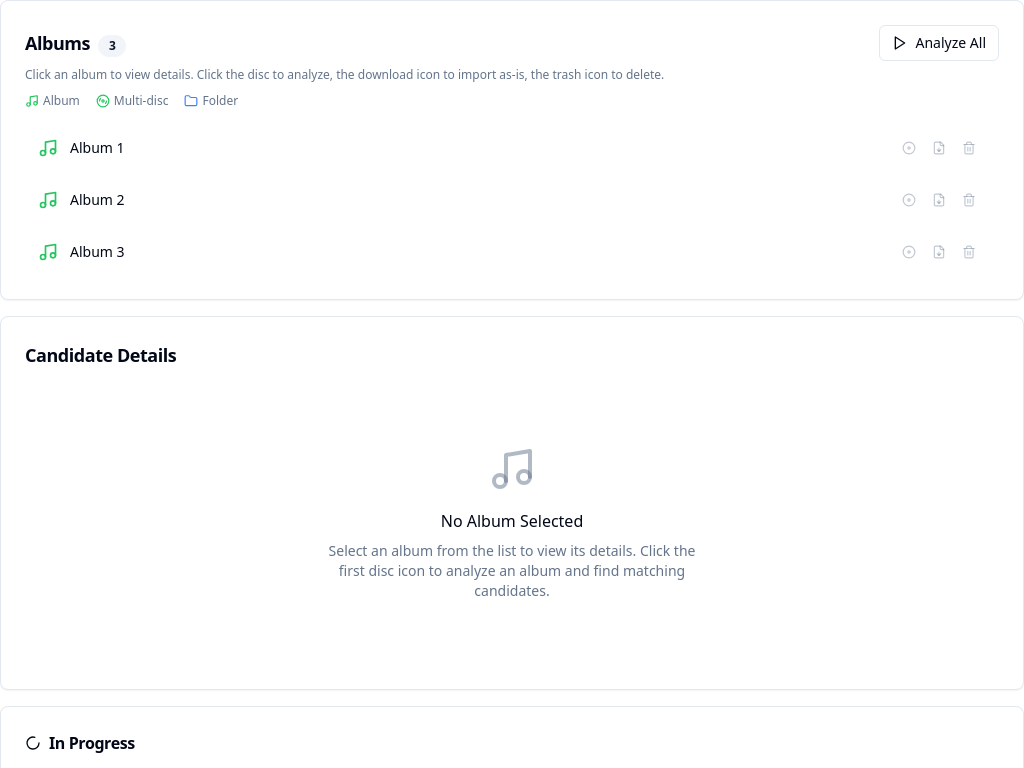
Test: BeetsImportPanel › Analysis Trigger Flow › should show analysis results after analysis completes
The width and height of the screenshot is (1024, 768).
Expected: the text "Album 1" is shown, x1=70 y1=138 x2=125 y2=157
Click the 1st button named "Analyze album" at {"x": 909, "y": 148}, box x1=900 y1=139 x2=918 y2=157
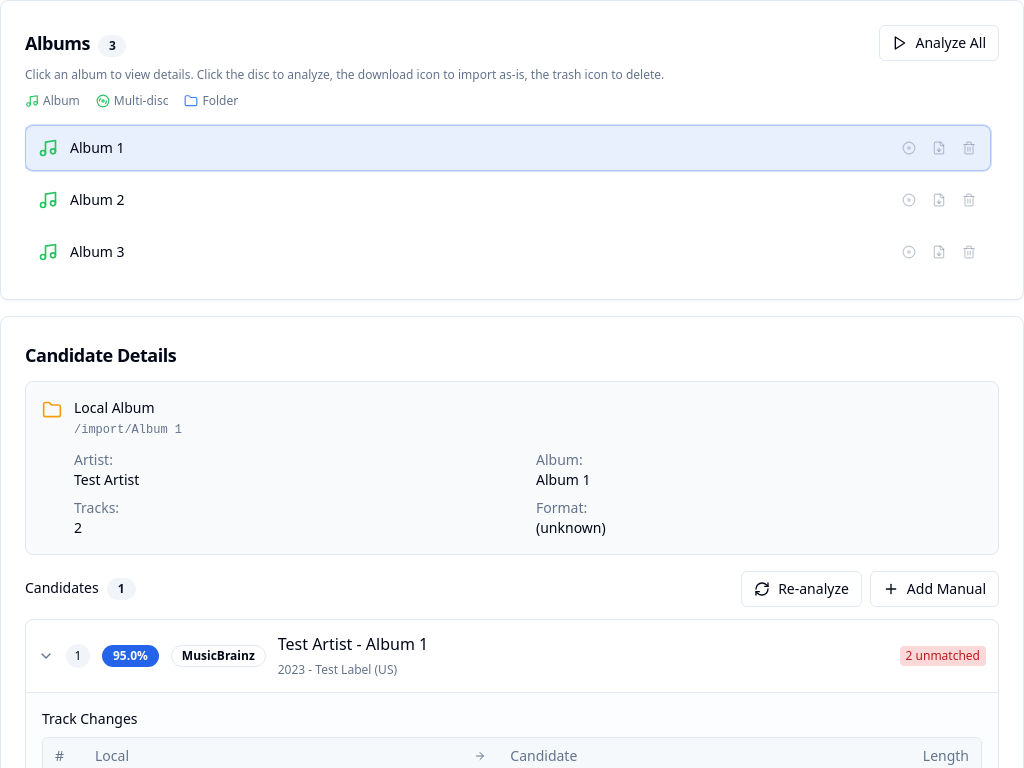
Expected: the text "MusicBrainz" is shown, x1=171 y1=645 x2=266 y2=667
